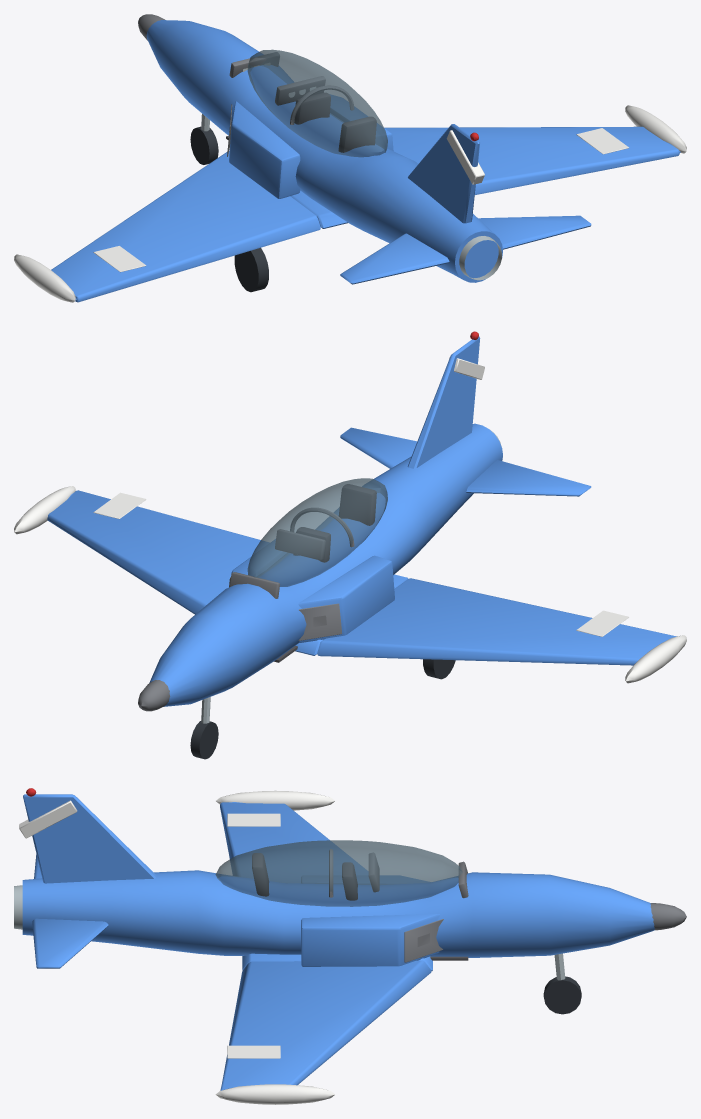
Rendered from KestrelJet.fbx.
The picture shows the model from 3 angles, top to bottom: view 1: azimuth 30°, elevation 25°; view 2: azimuth 150°, elevation 25°; view 3: azimuth 270°, elevation 25°; orthographic projection.
Visible parts, largest first — view 1: Body__paint, Body__glass, Body__white, Body__engine, Body__rubber, Body__interior, Body__metal; view 2: Body__paint, Body__glass, Body__white, Body__engine, Body__interior, Body__rubber; view 3: Body__paint, Body__glass, Body__white, Body__engine, Body__interior, Body__rubber, Body__metal.
Part boxes in pixels (bbox=[...]): Body__paint: bbox=[51, 20, 680, 302]; Body__glass: bbox=[247, 49, 387, 157]; Body__white: bbox=[14, 105, 686, 302]; Body__engine: bbox=[138, 14, 353, 156]; Body__rubber: bbox=[190, 126, 268, 292]; Body__interior: bbox=[226, 92, 376, 152]; Body__metal: bbox=[201, 63, 501, 280]; Body__paint: bbox=[47, 336, 676, 706]; Body__glass: bbox=[247, 478, 387, 586]; Body__white: bbox=[14, 357, 686, 683]; Body__engine: bbox=[138, 507, 354, 711]; Body__interior: bbox=[274, 484, 376, 662]; Body__rubber: bbox=[190, 659, 455, 759]; Body__paint: bbox=[22, 794, 654, 1090]; Body__glass: bbox=[215, 840, 462, 906]; Body__white: bbox=[19, 790, 334, 1104]; Body__engine: bbox=[329, 849, 686, 962]; Body__interior: bbox=[252, 853, 468, 960]; Body__rubber: bbox=[543, 976, 581, 1014]; Body__metal: bbox=[14, 885, 565, 980].
Bounding box in the file's own units: 8.34 × 2.88 × 7.85.
